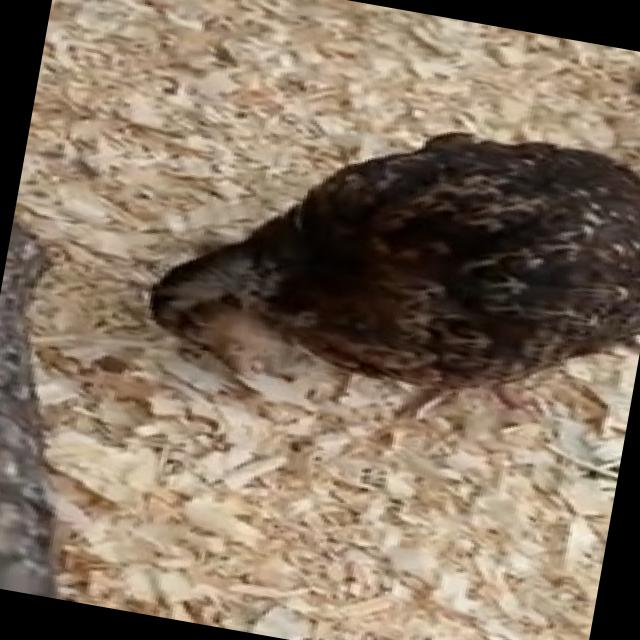newcastle: (114, 68, 640, 462)
